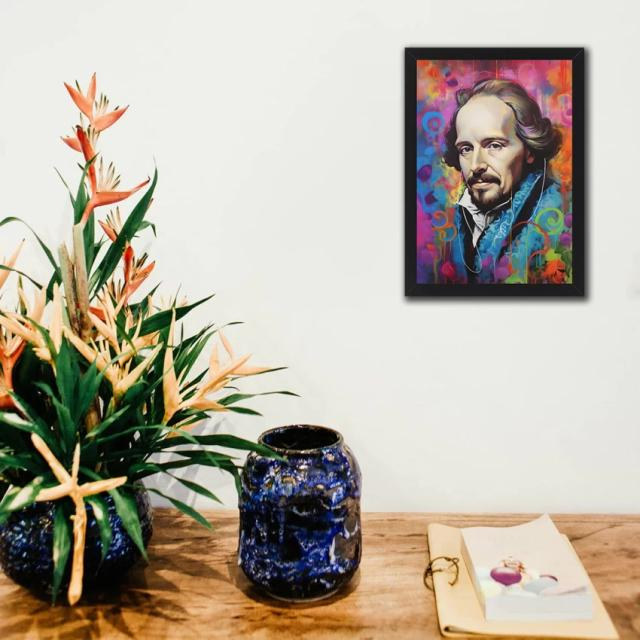painting: (404, 47, 585, 298)
